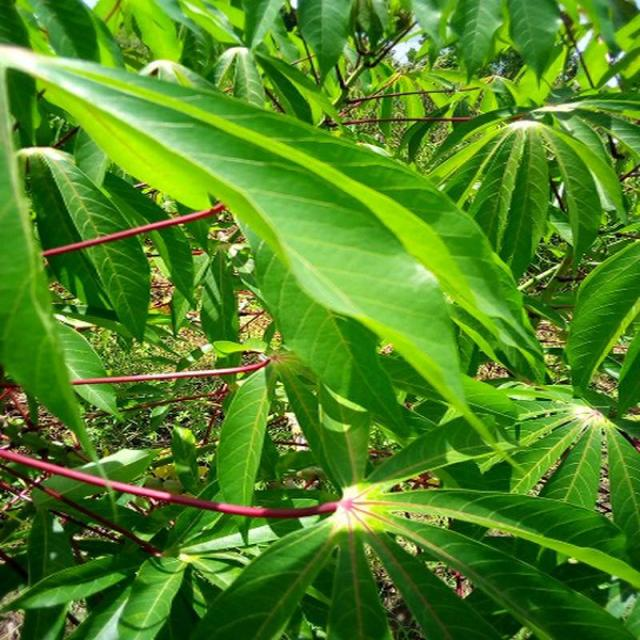cassava leaf: (2, 41, 551, 453)
